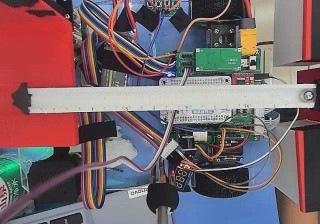ironball: (303, 90, 313, 100)
